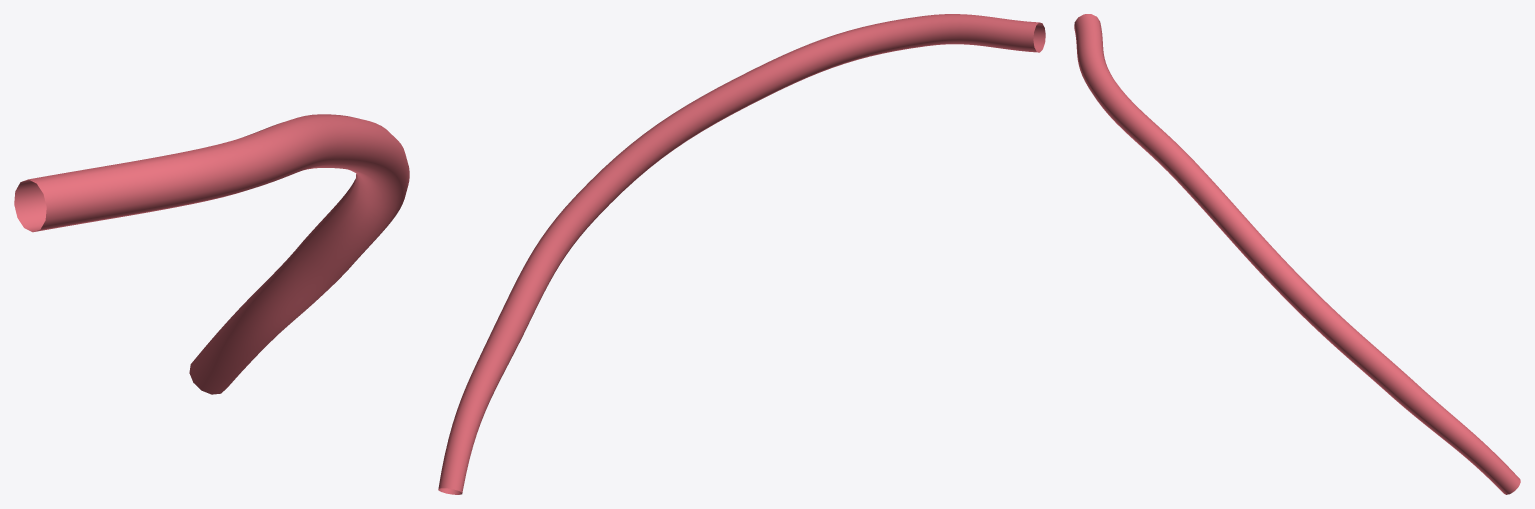
The picture shows the model from 3 angles, left to right: view 1: azimuth 30°, elevation 25°; view 2: azimuth 150°, elevation 25°; view 3: azimuth 270°, elevation 25°; orthographic projection. The views are drawn at different scales.
Visible parts, largest first — view 1: ZA_fb0c7c1201b2fdbf; view 2: ZA_fb0c7c1201b2fdbf; view 3: ZA_fb0c7c1201b2fdbf.
Part boxes in pixels (x1,y1,x2,y2): ZA_fb0c7c1201b2fdbf: [14, 114, 409, 394]; ZA_fb0c7c1201b2fdbf: [438, 14, 1045, 494]; ZA_fb0c7c1201b2fdbf: [1074, 14, 1520, 494].
Bounding box in the file's own units: 0.0304 × 0.0301 × 0.0367.
